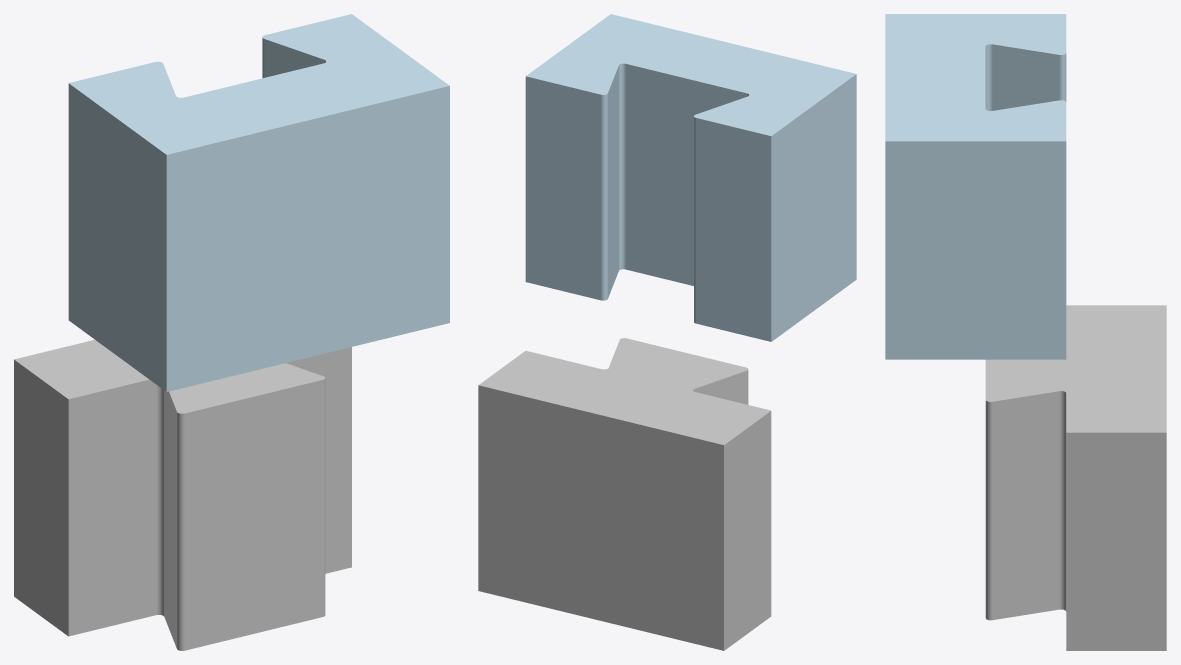
File: dovetail_exploded_v0.2.gltf
3 views of the same model, side by side, from view 1: azimuth 30°, elevation 25°; view 2: azimuth 150°, elevation 25°; view 3: azimuth 270°, elevation 25° (orthographic). The views are drawn at different scales.
Parts seen in each view (by area): view 1: Part 1, Part 2; view 2: Part 1, Part 2; view 3: Part 1, Part 2.
Part boxes in pixels (<box>): Part 1: <box>68,14,449,391</box>; Part 2: <box>14,339,351,650</box>; Part 1: <box>525,14,856,341</box>; Part 2: <box>478,338,771,650</box>; Part 1: <box>885,14,1066,359</box>; Part 2: <box>985,305,1166,650</box>.
Size of the model in its own units: 0.03 by 0.056 by 0.028.
